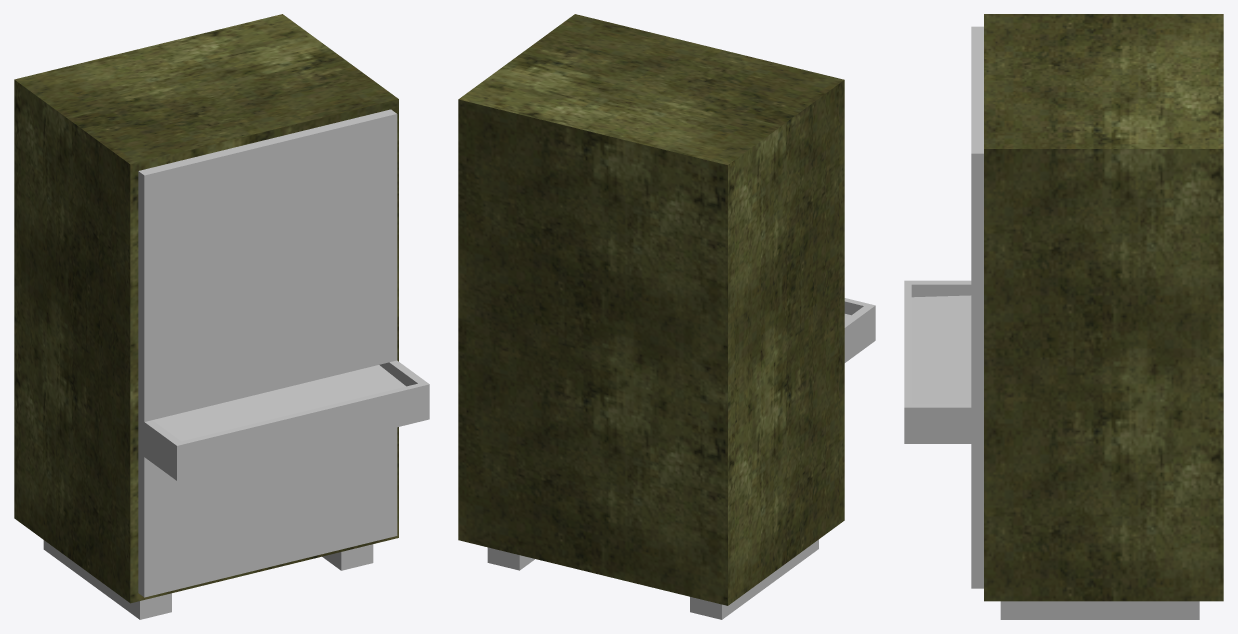
Rendered from frn_all_toolchest_lg_s01_l0.fbx.
3 renders of one model, left to right at view 1: azimuth 30°, elevation 25°; view 2: azimuth 150°, elevation 25°; view 3: azimuth 270°, elevation 25°, orthographic. The views are drawn at different scales.
Visible parts, largest first — view 1: mesh_node; view 2: mesh_node; view 3: mesh_node.
Part boxes in pixels (x1=…): mesh_node: x1=14, y1=14, x2=429, y2=619; mesh_node: x1=458, y1=14, x2=875, y2=619; mesh_node: x1=904, y1=14, x2=1223, y2=619.
Size of the model in its own units: 1 by 1.66 by 1.
